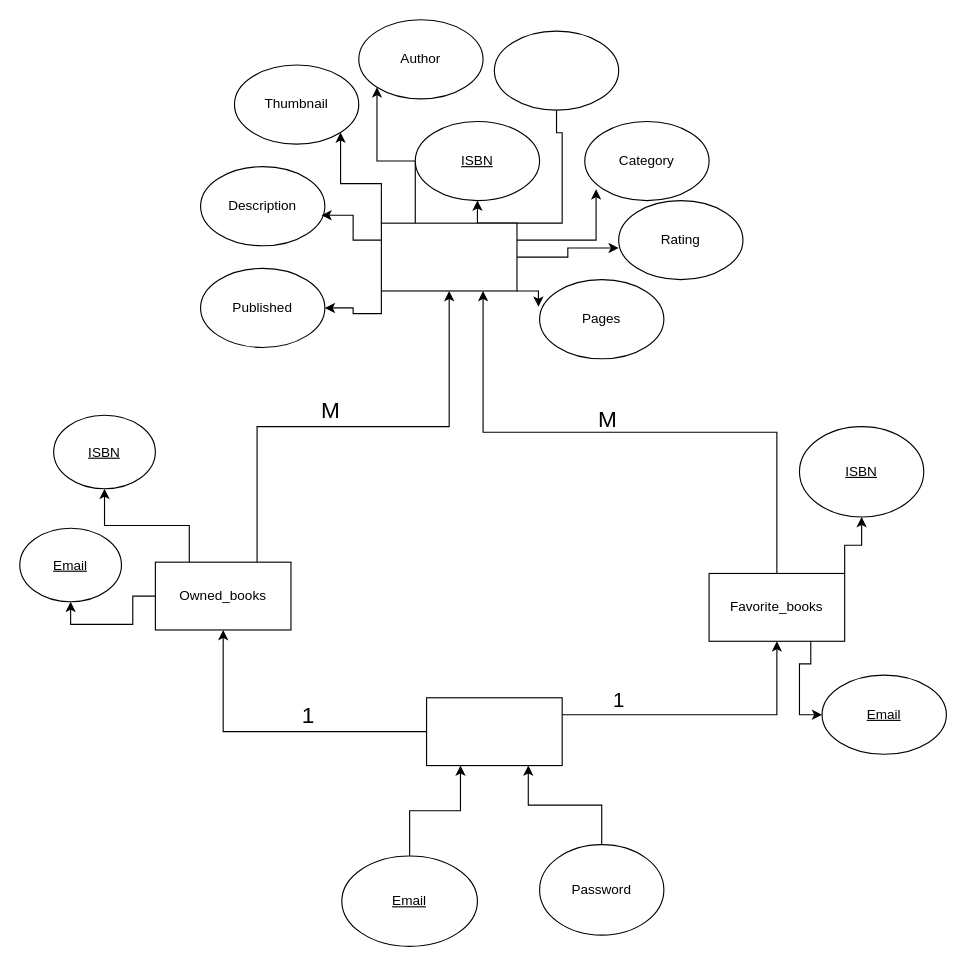
This 966x966 diagram has some shape labels left out. Here are the shapes that lost their labels. From the top down, the centre of each, then its label:
At point (556, 70): "Title".
At point (448, 256): "Books".
At point (493, 731): "User".
